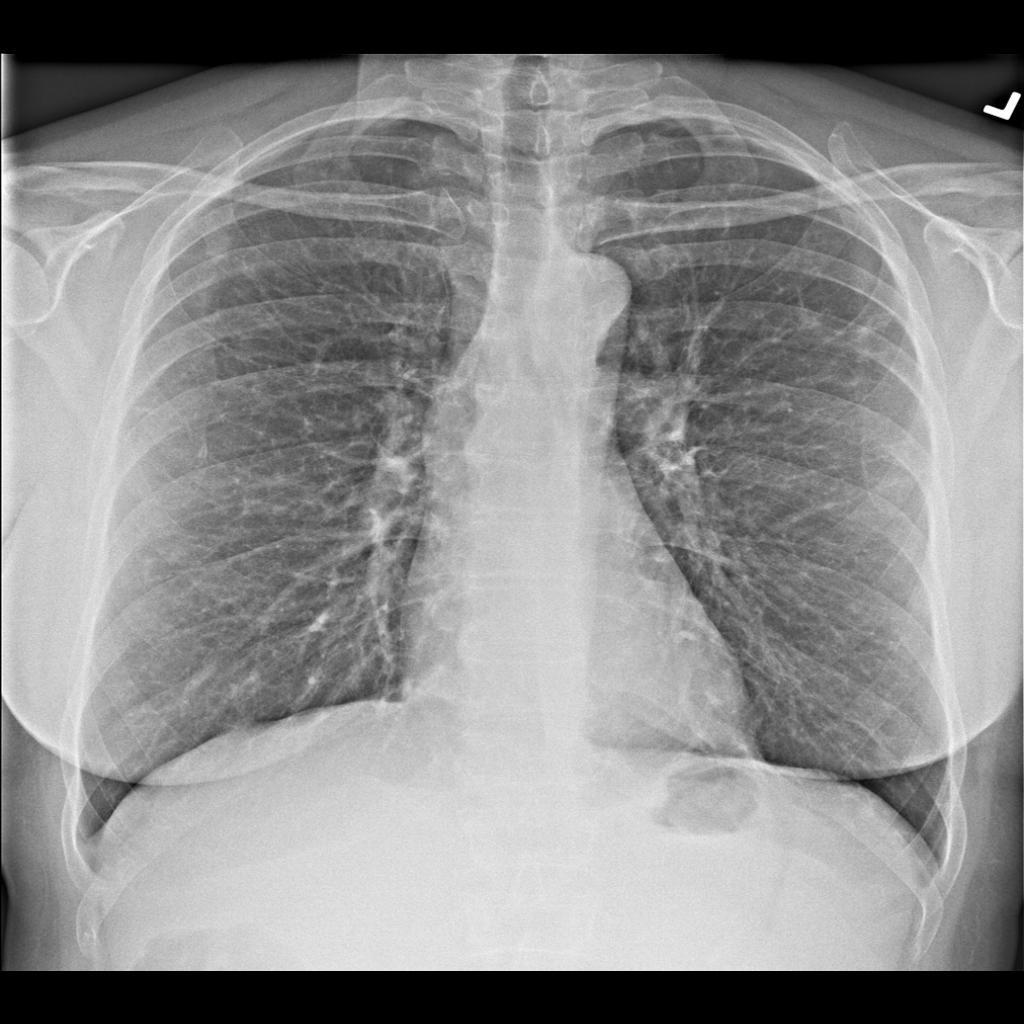Nodule: (848, 327, 891, 367), (793, 301, 817, 337)
